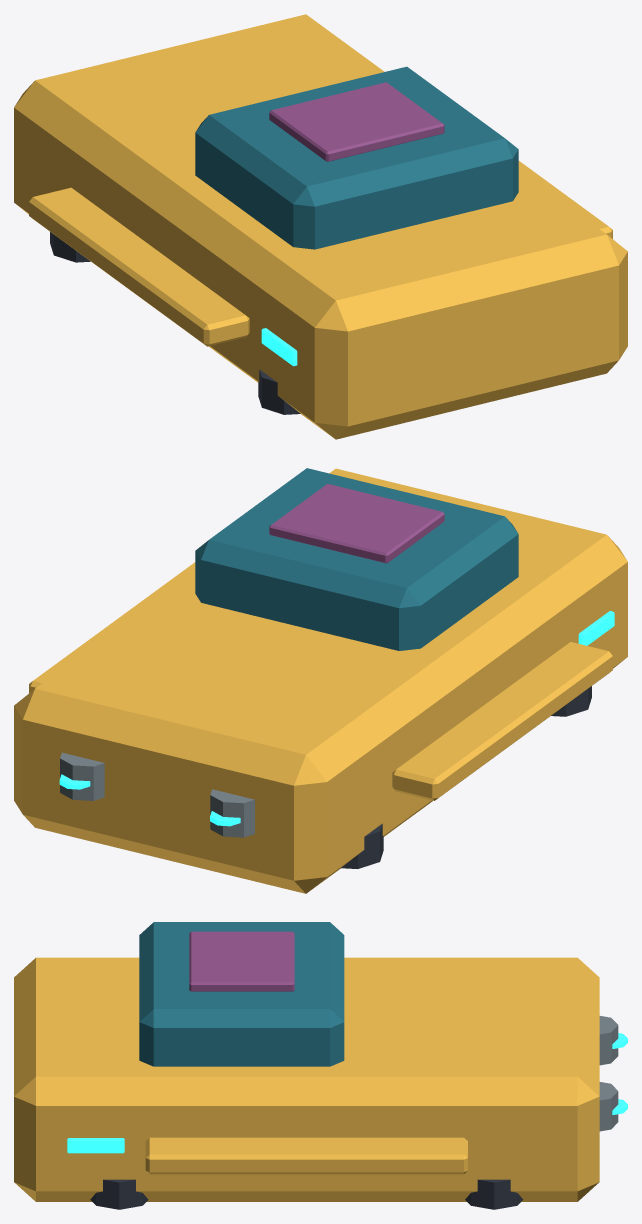
The model's file is vehicles_030_seed11.glb.
3 renders of one model, top to bottom at view 1: azimuth 30°, elevation 25°; view 2: azimuth 150°, elevation 25°; view 3: azimuth 270°, elevation 25°, orthographic. The views are drawn at different scales.
Parts seen in each view (by area): view 1: vehicles_030_seed11; view 2: vehicles_030_seed11; view 3: vehicles_030_seed11.
Part boxes in pixels (bbox=[...]): vehicles_030_seed11: bbox=[14, 14, 627, 439]; vehicles_030_seed11: bbox=[14, 468, 627, 893]; vehicles_030_seed11: bbox=[14, 922, 627, 1209].
Bounding box in the file's own units: 3.11 × 1.49 × 4.48.
